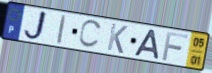A: (133, 28, 161, 61)
C: (77, 19, 104, 50)
F: (161, 31, 190, 63)
I: (55, 13, 68, 47)
J: (22, 9, 49, 43)
K: (105, 22, 129, 56)
